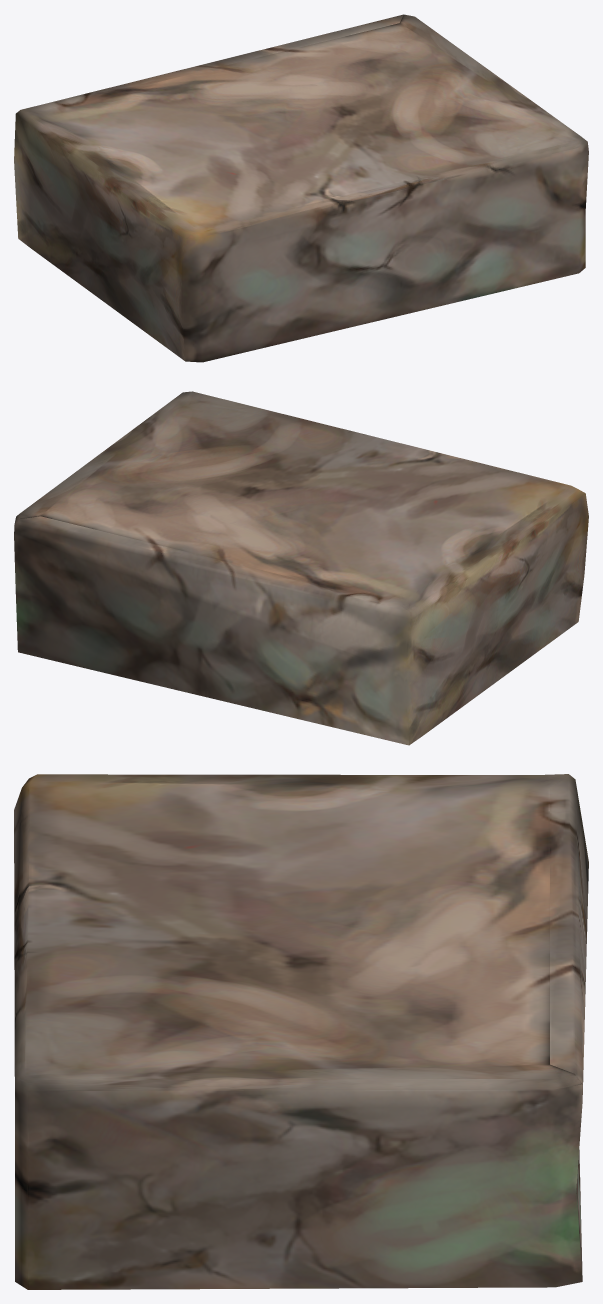
File: STR_StairStone_Base.FBX
3 renders of one model, top to bottom at view 1: azimuth 30°, elevation 25°; view 2: azimuth 150°, elevation 25°; view 3: azimuth 270°, elevation 25°, orthographic. The views are drawn at different scales.
Parts seen in each view (by area): view 1: STR_StoneStair_Base; view 2: STR_StoneStair_Base; view 3: STR_StoneStair_Base.
Boxes of the visible parts, <box> form: STR_StoneStair_Base: <box>14,14,588,362</box>; STR_StoneStair_Base: <box>14,391,588,745</box>; STR_StoneStair_Base: <box>14,774,588,1289</box>.
Size of the model in its own units: 919 by 282 by 706.
